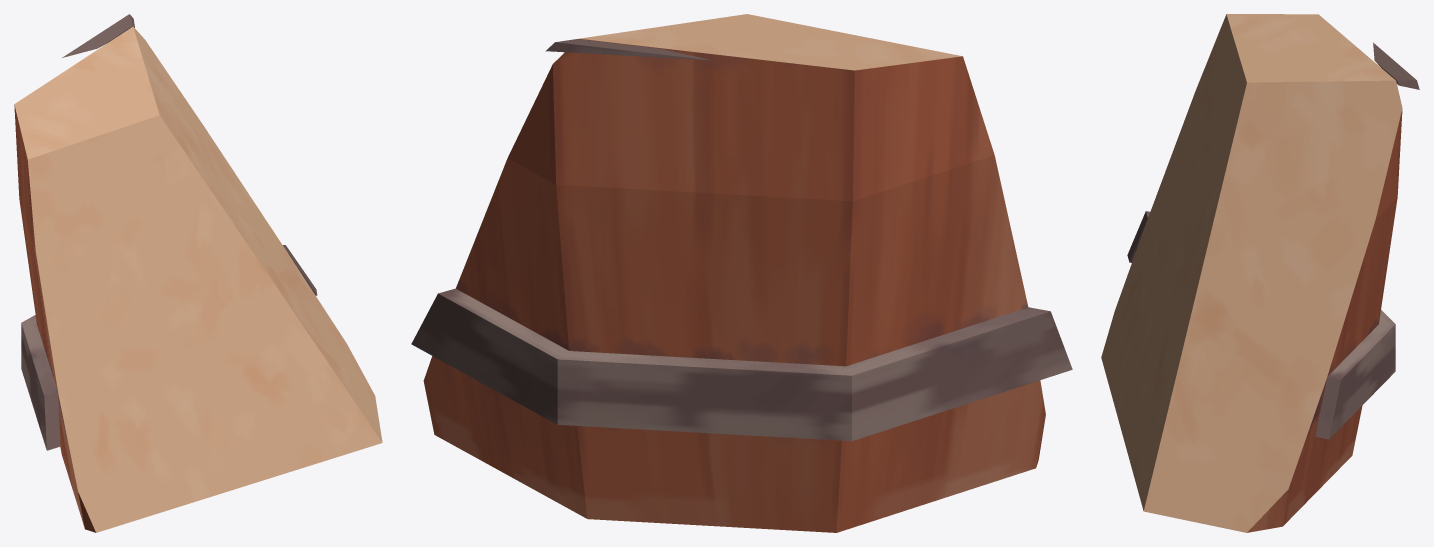
Rendered from barrel_s05.fbx.
The picture shows the model from 3 angles, left to right: view 1: azimuth 30°, elevation 25°; view 2: azimuth 150°, elevation 25°; view 3: azimuth 270°, elevation 25°; orthographic projection. The views are drawn at different scales.
Parts seen in each view (by area): view 1: barrel_s05; view 2: barrel_s05; view 3: barrel_s05.
Part boxes in pixels (x1,y1,x2,y2): barrel_s05: [14, 14, 382, 532]; barrel_s05: [411, 14, 1072, 532]; barrel_s05: [1101, 14, 1419, 532].
Bounding box in the file's own units: 1.93 × 1.72 × 1.34.
